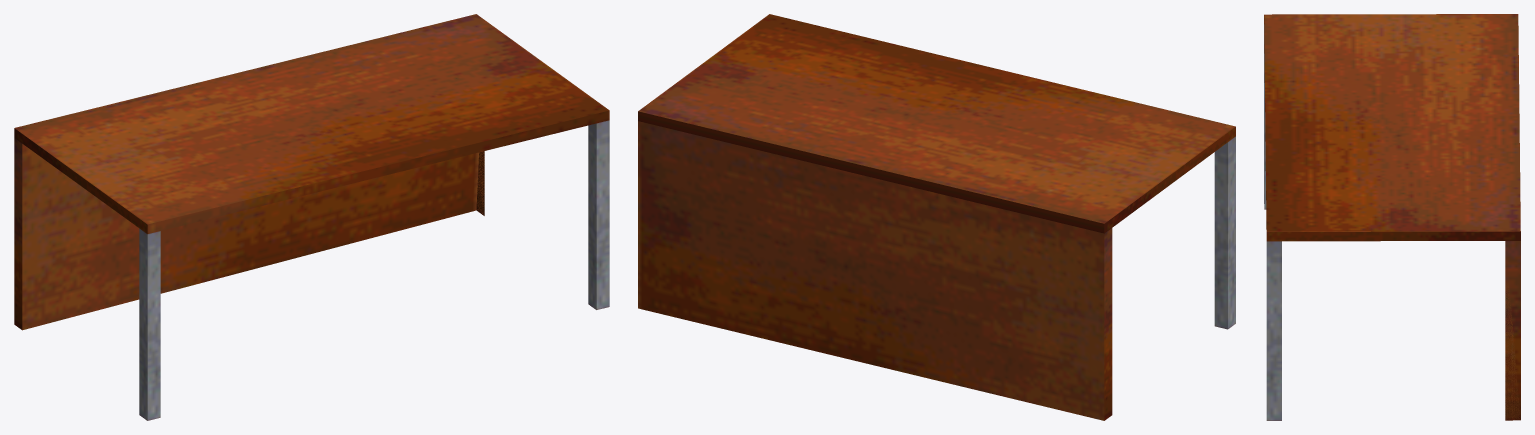
The model's file is desk1_alt4.obj.
3 views of the same model, side by side, from view 1: azimuth 30°, elevation 25°; view 2: azimuth 150°, elevation 25°; view 3: azimuth 270°, elevation 25° (orthographic). The views are drawn at different scales.
Parts seen in each view (by area): view 1: desk1_alt4; view 2: desk1_alt4; view 3: desk1_alt4.
Boxes of the visible parts, box(x1,y1,x2,y2) form: desk1_alt4: box(14, 14, 609, 420); desk1_alt4: box(638, 14, 1235, 420); desk1_alt4: box(1264, 14, 1520, 420).
Size of the model in its own units: 2.21 by 0.8911 by 1.1.
